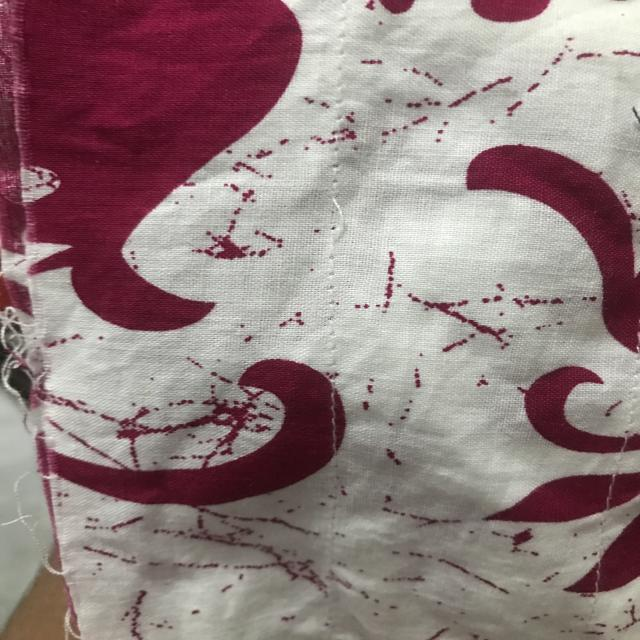skip: (304, 185, 371, 254)
